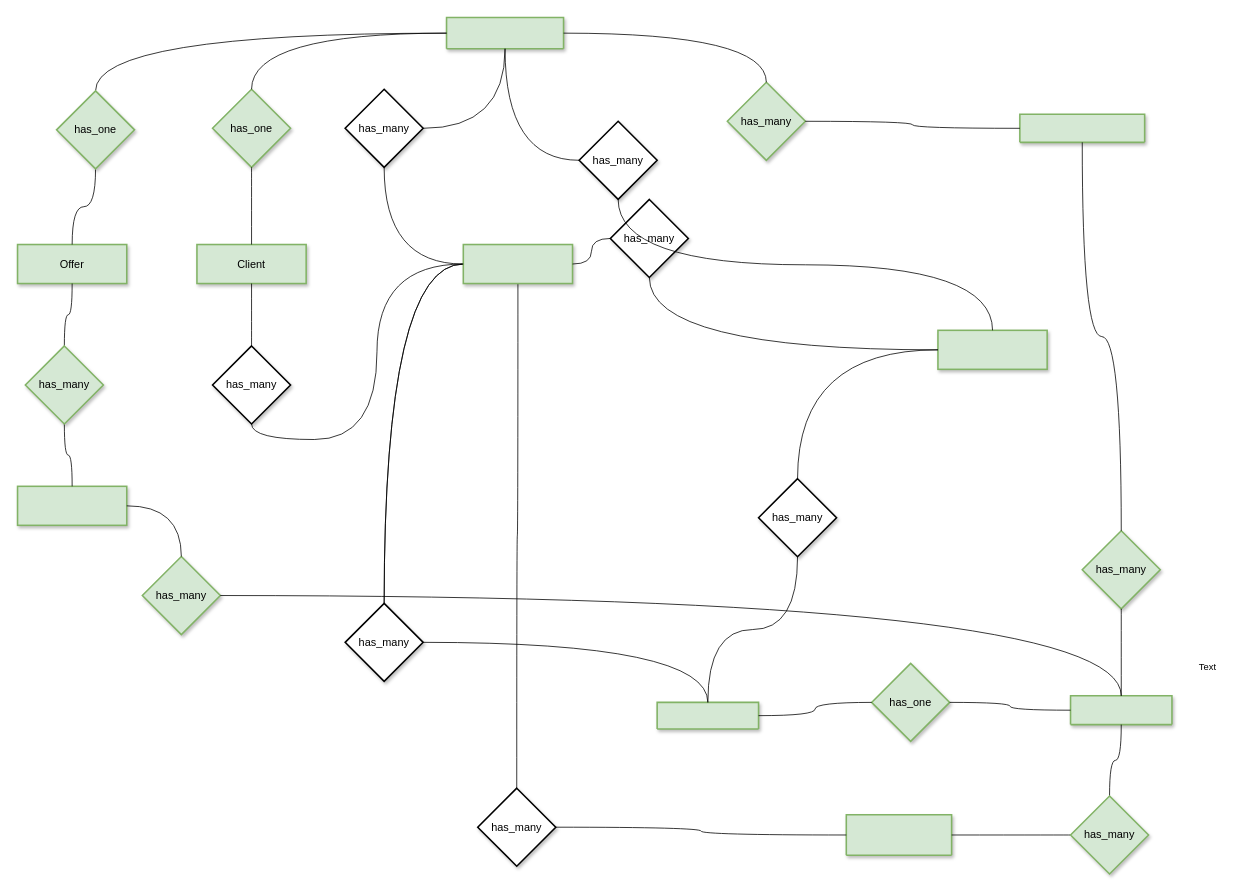
Some shapes in this 1242 by 893 pixel diagram are drawn without their labels. The centre of each missing label's shape, as x and y in pixels:
Event: pixel 1083 129
File/Notes: pixel 518 264
Inventory: pixel 899 835
Job: pixel 505 34
Payment: pixel 993 350
Service: pixel 72 506
Task: pixel 1121 710
User: pixel 708 716
